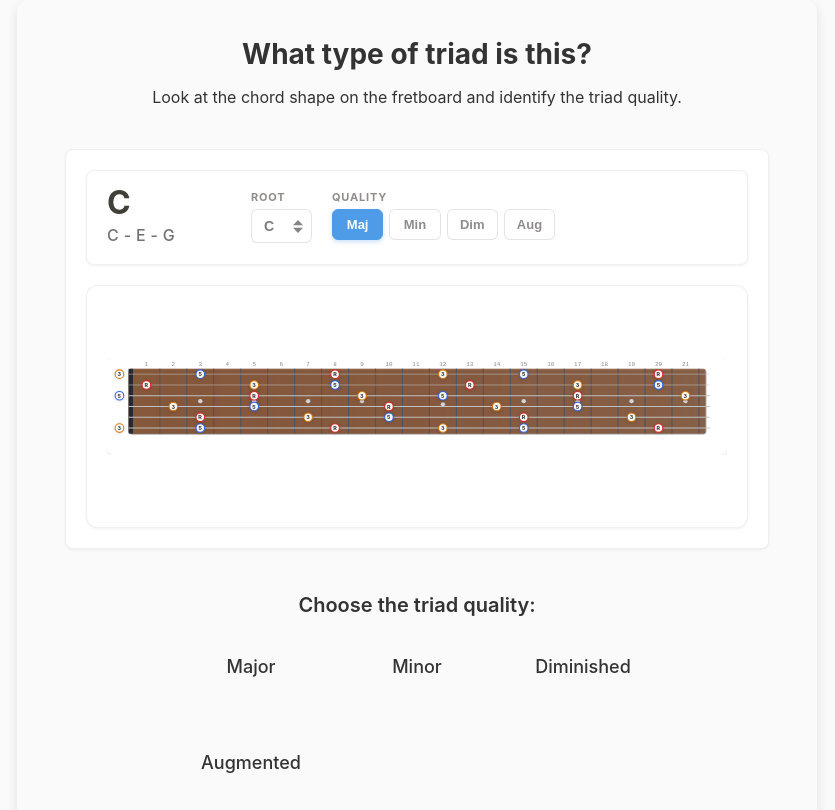
Test: RecognitionMode Component › User Interactions › enables submit button when option is selected
Click the radio button showing "major". click: (307, 665)
box: [226,654,387,677]
(page scrolled)
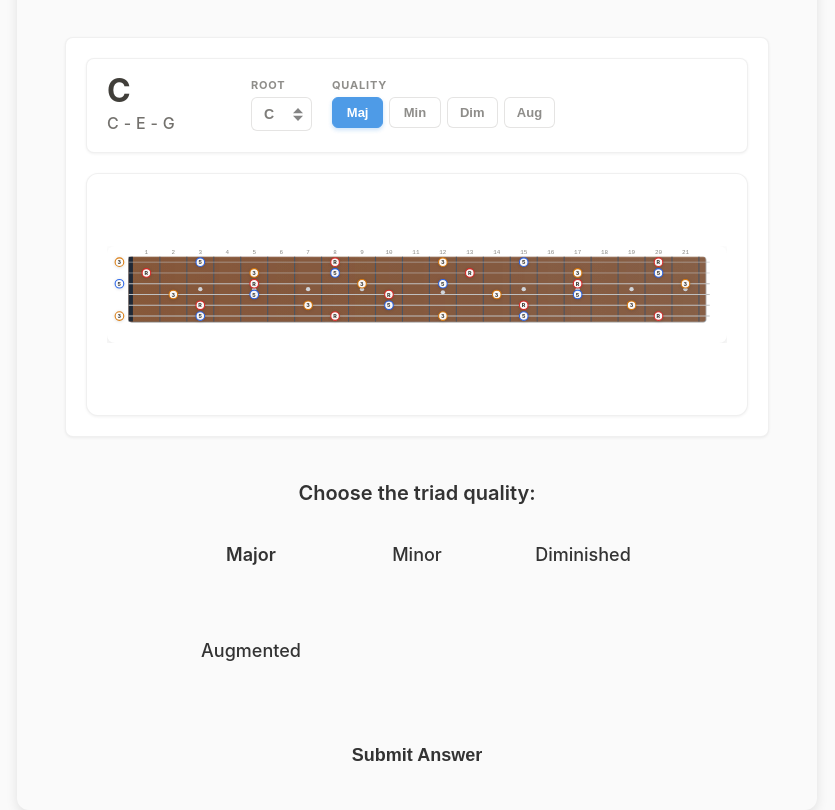
Result: the radio button showing "major" is checked at [226,542,387,565]
Result: the button "Submit Answer" is enabled at [320,733,514,778]
